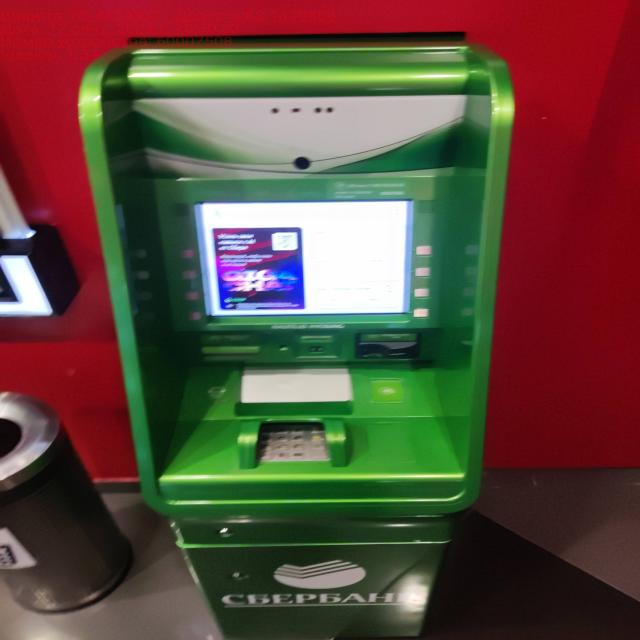bank: (77, 27, 520, 640)
